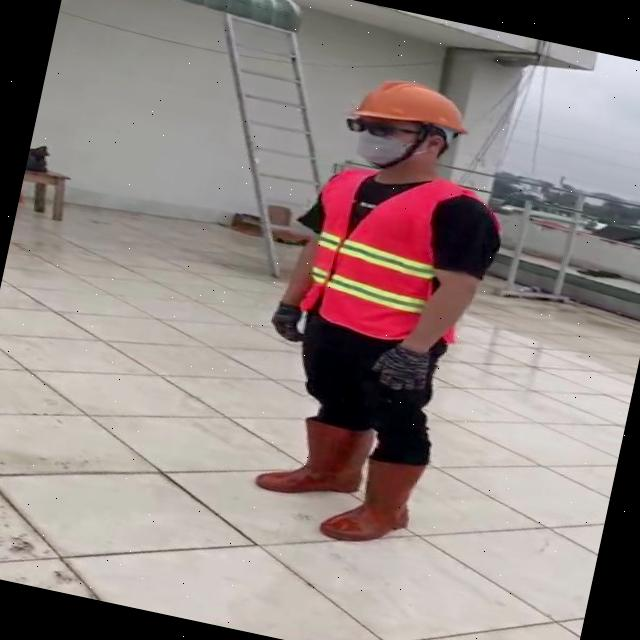boots: (252, 404, 383, 512), (318, 448, 428, 554)
helmet: (344, 66, 478, 146)
vest: (288, 157, 490, 350)
